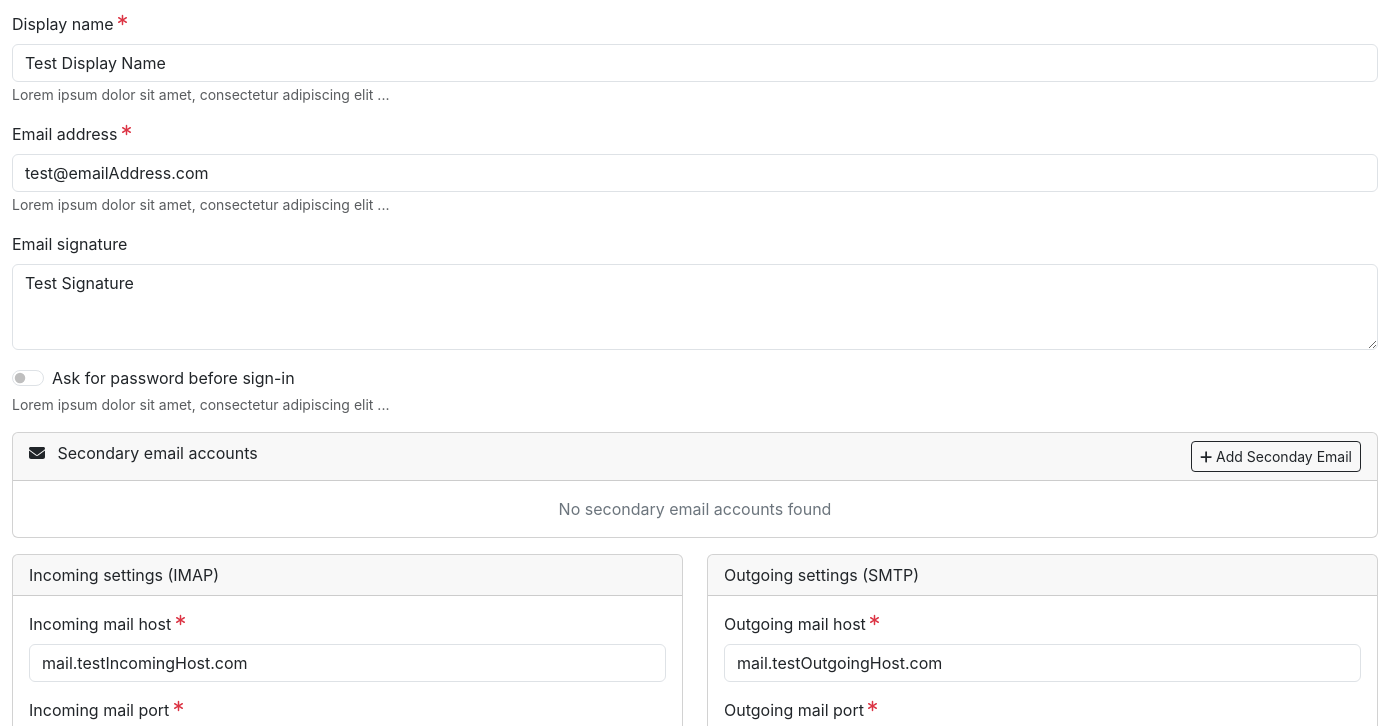
Test: SettingsForm Component › Test setSettingValue() function › with a validation error
Step 1. Clear the field with id "formDisplayName" → coordinates (695, 63), box 12,44 -> 1378,82
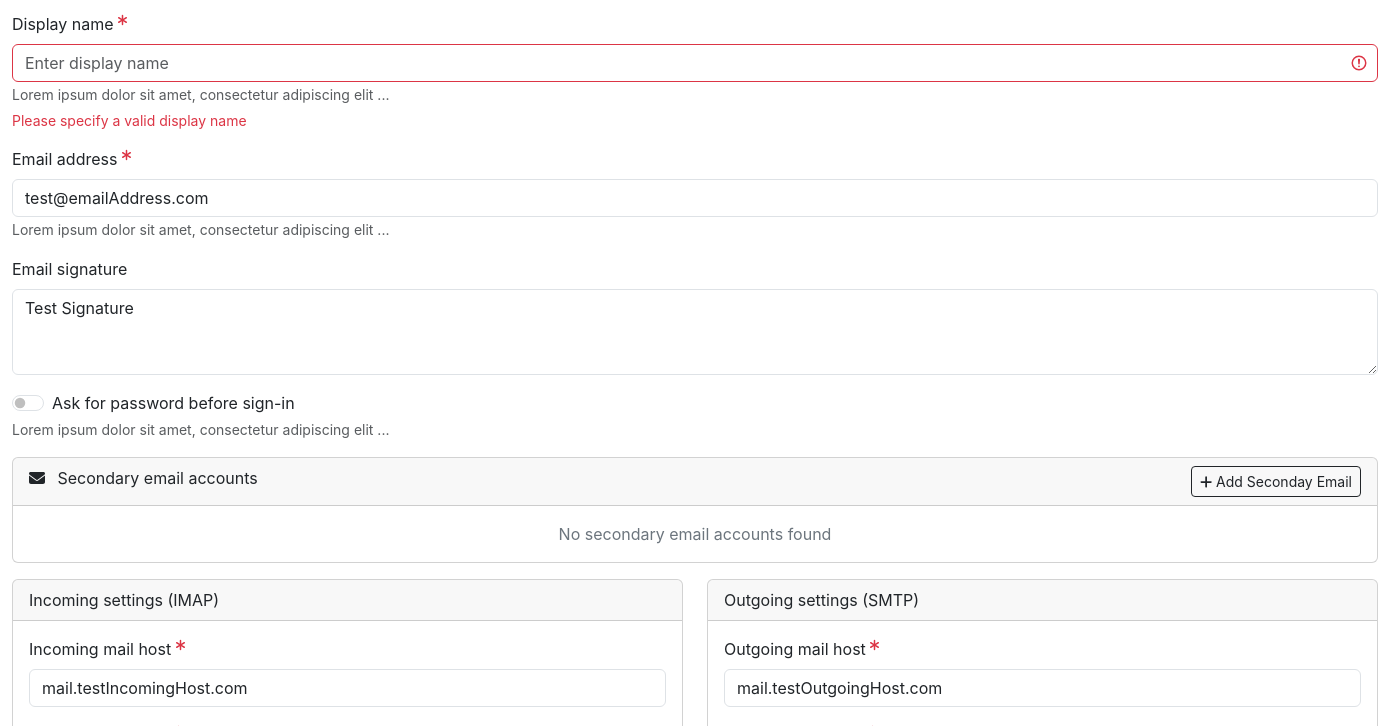
Now the text "Please specify a valid display name" is shown, box 12,112 -> 247,129
